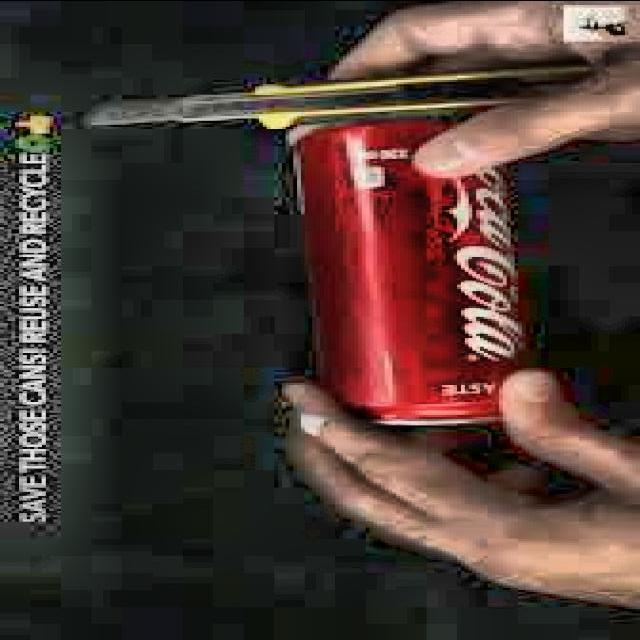litter: (280, 104, 534, 429)
